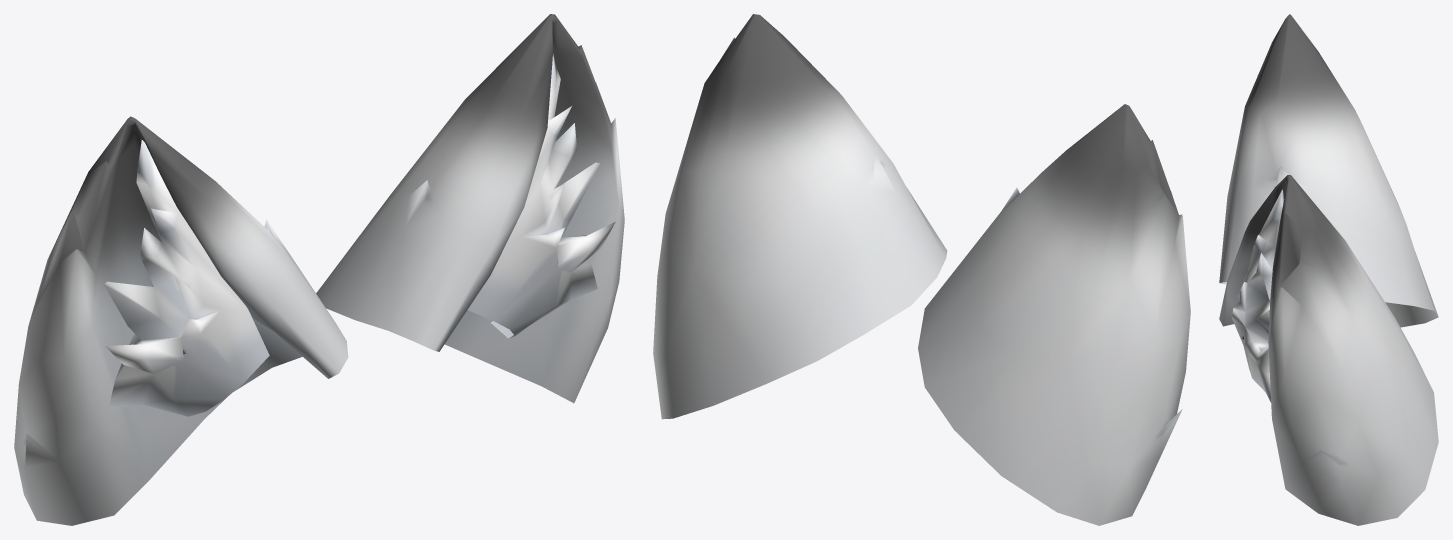
File: 耳朵减面1.3.fbx
3 renders of one model, left to right at view 1: azimuth 30°, elevation 25°; view 2: azimuth 150°, elevation 25°; view 3: azimuth 270°, elevation 25°, orthographic. The views are drawn at different scales.
Parts seen in each view (by area): view 1: YawlDress_ear; view 2: YawlDress_ear; view 3: YawlDress_ear.
Part boxes in pixels (left/top/right/bottom): YawlDress_ear: left=14, top=14, right=624, bottom=525; YawlDress_ear: left=653, top=14, right=1190, bottom=525; YawlDress_ear: left=1219, top=14, right=1438, bottom=525.
Bounding box in the file's own units: 0.1746 × 0.12 × 0.0721.
